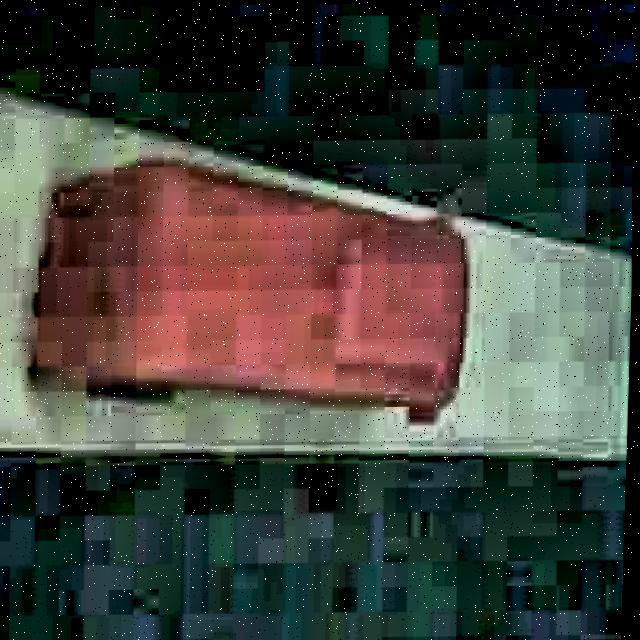bus: (13, 147, 479, 431)
